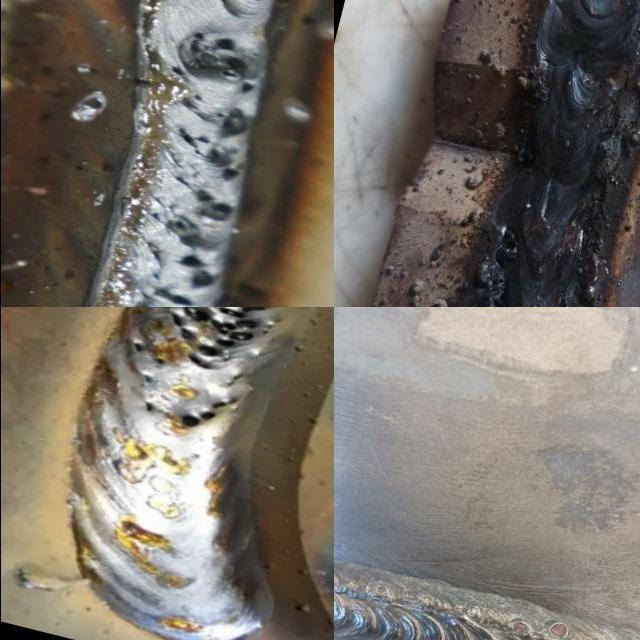defect: (148, 181, 234, 292), (162, 307, 292, 374), (166, 24, 258, 98), (174, 104, 250, 183), (172, 388, 244, 433), (149, 283, 195, 307), (481, 265, 507, 307), (497, 226, 521, 269), (547, 619, 577, 639), (402, 589, 430, 610), (507, 620, 534, 638), (370, 582, 393, 603), (137, 399, 163, 414), (131, 340, 146, 354), (139, 373, 156, 384), (152, 356, 167, 365)
